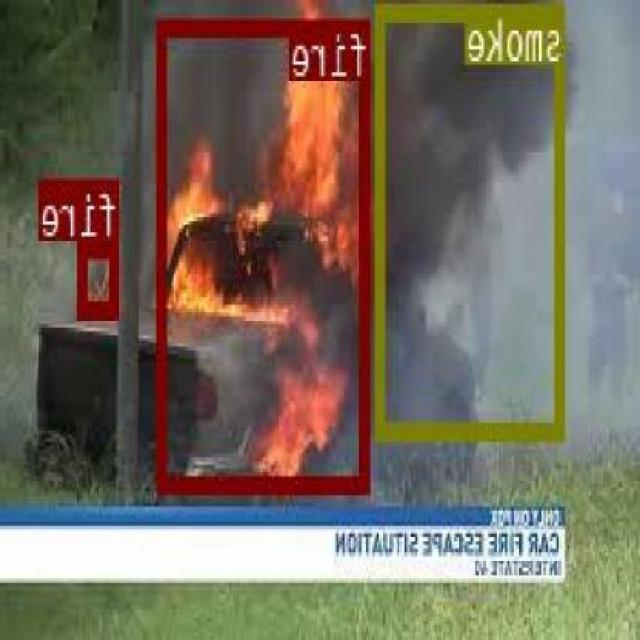Fire: (160, 15, 372, 488), (80, 236, 120, 316)
Smoke: (378, 2, 567, 436)
